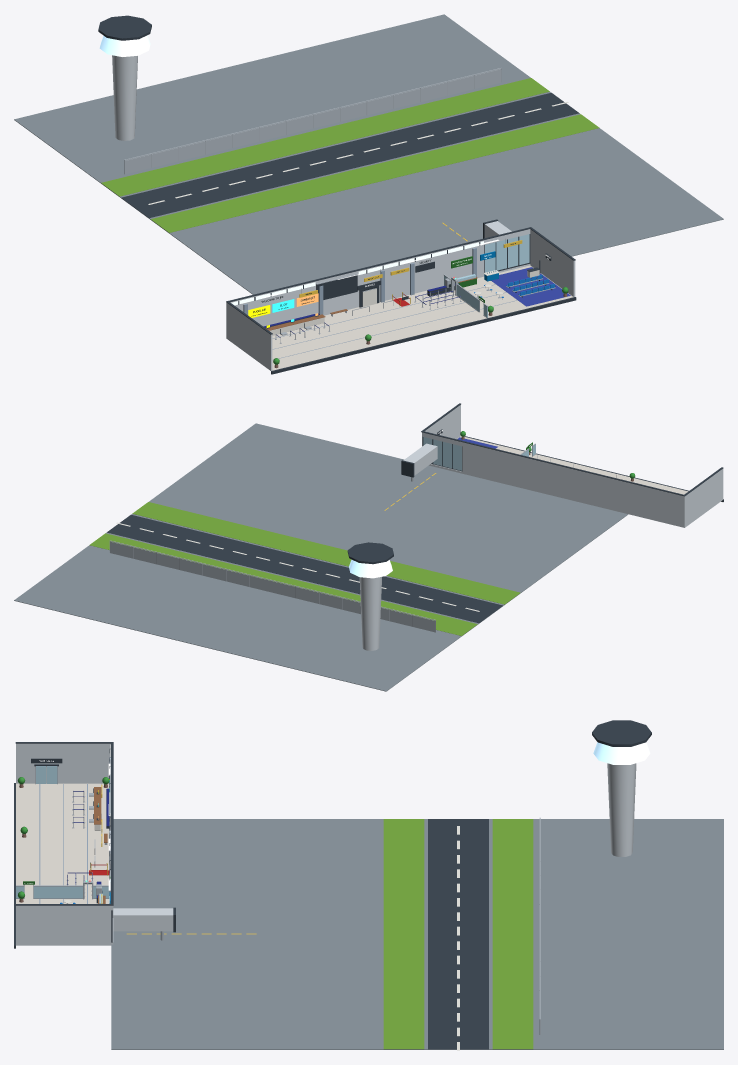
File: airport_terminal.glb
The picture shows the model from 3 angles, top to bottom: view 1: azimuth 30°, elevation 25°; view 2: azimuth 150°, elevation 25°; view 3: azimuth 270°, elevation 25°; orthographic projection. The views are drawn at different scales.
Visible parts, largest first — view 1: AirportTerminal_static; view 2: AirportTerminal_static; view 3: AirportTerminal_static.
Boxes of the visible parts, bbox=[...] form: AirportTerminal_static: bbox=[14, 14, 723, 374]; AirportTerminal_static: bbox=[14, 403, 723, 691]; AirportTerminal_static: bbox=[14, 720, 723, 1050].
Size of the model in its own units: 92.85 by 20 by 104.
